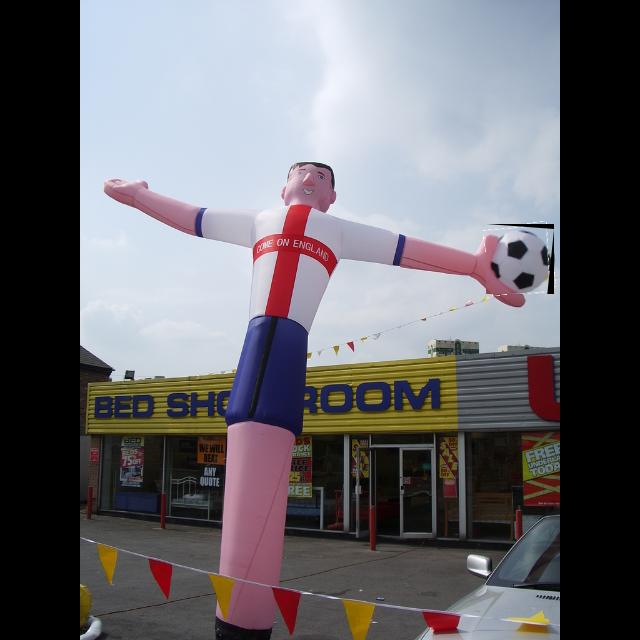Football: (486, 224, 554, 294)
